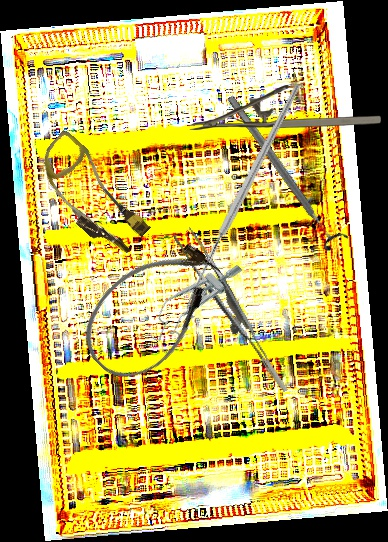Cannula: (66, 224, 238, 396), (22, 128, 162, 263)
Fixation Ring: (218, 88, 350, 255)
Hook Surgical: (113, 81, 377, 321)
Needle Holder: (189, 85, 381, 130)
Speculum: (138, 246, 250, 358)
Tissue Forceps: (172, 218, 289, 407)
